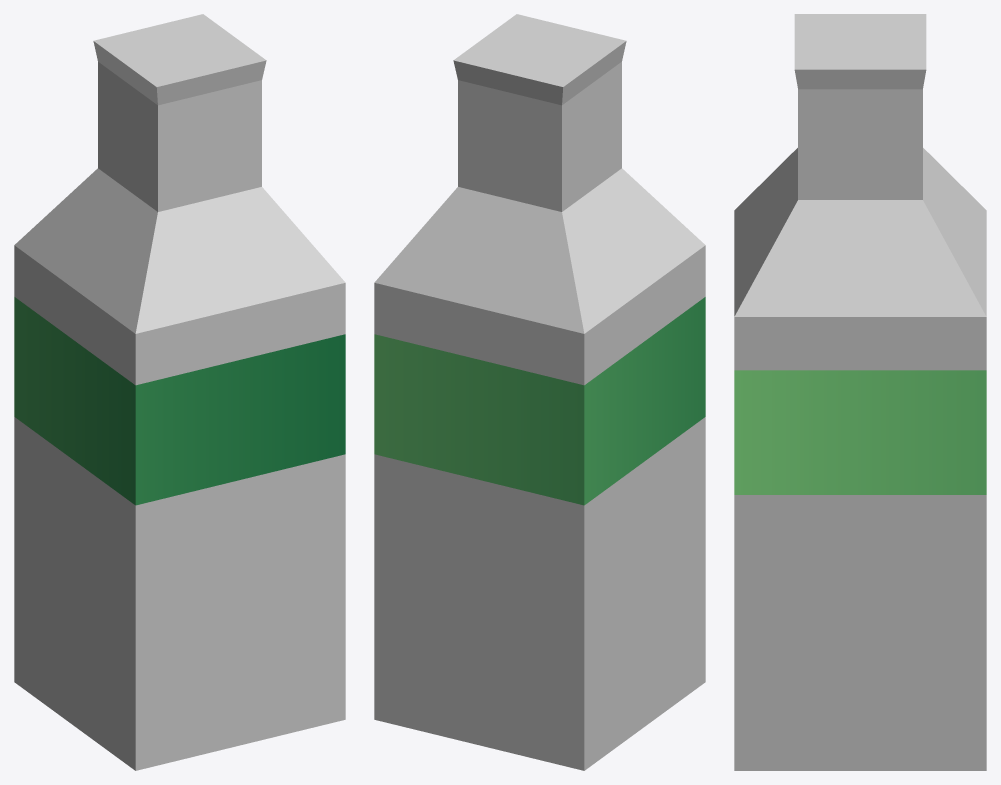
File: B01_bouteille_3_a.fbx
3 views of the same model, side by side, from view 1: azimuth 30°, elevation 25°; view 2: azimuth 150°, elevation 25°; view 3: azimuth 270°, elevation 25° (orthographic). The views are drawn at different scales.
Visible parts, largest first — view 1: B01_bouteille_3_a; view 2: B01_bouteille_3_a; view 3: B01_bouteille_3_a.
Boxes of the visible parts, x1,y1,x2,y2 form: B01_bouteille_3_a: (14,14,345,770); B01_bouteille_3_a: (374,14,705,770); B01_bouteille_3_a: (734,14,986,770).
Bounding box in the file's own units: 8.44 × 24.97 × 8.44.
